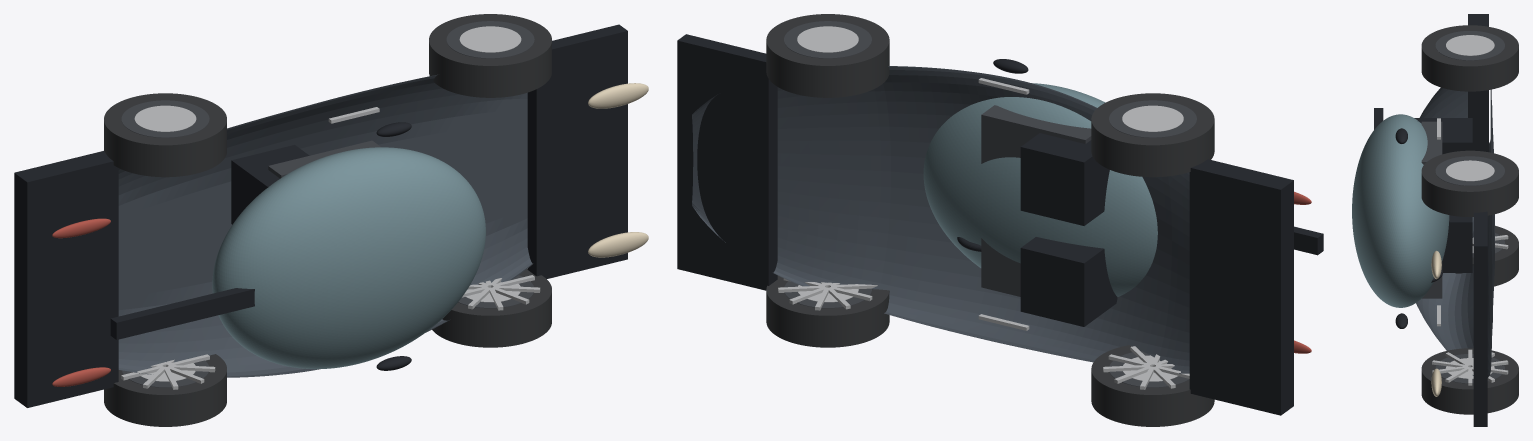
File: SM_Redline_ApexGT_Hero_HQ.glb
3 views of the same model, side by side, from view 1: azimuth 30°, elevation 25°; view 2: azimuth 150°, elevation 25°; view 3: azimuth 270°, elevation 25° (orthographic). The views are drawn at different scales.
Visible parts, largest first — view 1: canopy_glass, body_loft, rear_diffuser, front_splitter, tire_1.28_0.94, tire_-1.28_0.94, tire_-1.28_-0.94, tire_1.28_-0.94, wing, seat_passenger, rim_barrel_1.28_0.94, rim_barrel_-1.28_0.94 (+7 smaller); view 2: body_loft, rear_diffuser, front_splitter, canopy_glass, seat_driver, seat_passenger, tire_1.28_0.94, tire_-1.28_0.94, tire_1.28_-0.94, tire_-1.28_-0.94, dashboard, rim_barrel_1.28_0.94 (+5 smaller); view 3: canopy_glass, body_loft, tire_-1.28_0.94, tire_1.28_0.94, tire_1.28_-0.94, front_splitter, seat_driver, rear_diffuser, seat_passenger, tire_-1.28_-0.94, dashboard, rim_barrel_1.28_0.94 (+7 smaller).
Part boxes in pixels (x1=…): canopy_glass: x1=212, y1=147, x2=485, y2=369; body_loft: x1=118, y1=74, x2=533, y2=377; rear_diffuser: x1=14, y1=150, x2=118, y2=407; front_splitter: x1=527, y1=24, x2=627, y2=278; tire_1.28_0.94: x1=429, y1=14, x2=551, y2=97; tire_-1.28_0.94: x1=104, y1=93, x2=226, y2=177; tire_-1.28_-0.94: x1=104, y1=354, x2=226, y2=426; tire_1.28_-0.94: x1=432, y1=269, x2=551, y2=347; wing: x1=110, y1=288, x2=254, y2=339; seat_passenger: x1=231, y1=145, x2=309, y2=224; rim_barrel_1.28_0.94: x1=446, y1=21, x2=534, y2=58; rim_barrel_-1.28_0.94: x1=121, y1=100, x2=209, y2=137; body_loft: x1=692, y1=66, x2=1189, y2=373; rear_diffuser: x1=1189, y1=159, x2=1293, y2=415; front_splitter: x1=677, y1=34, x2=777, y2=290; canopy_glass: x1=923, y1=83, x2=1157, y2=297; seat_driver: x1=1020, y1=237, x2=1117, y2=326; seat_passenger: x1=1020, y1=133, x2=1109, y2=225; tire_1.28_0.94: x1=766, y1=14, x2=889, y2=97; tire_-1.28_0.94: x1=1091, y1=93, x2=1214, y2=177; tire_1.28_-0.94: x1=766, y1=275, x2=889, y2=347; tire_-1.28_-0.94: x1=1091, y1=345, x2=1214, y2=426; dashboard: x1=981, y1=105, x2=1091, y2=296; rim_barrel_1.28_0.94: x1=784, y1=21, x2=871, y2=58; canopy_glass: x1=1352, y1=114, x2=1449, y2=307; body_loft: x1=1416, y1=87, x2=1494, y2=377; tire_-1.28_0.94: x1=1421, y1=25, x2=1518, y2=91; tire_1.28_0.94: x1=1421, y1=150, x2=1518, y2=216; tire_1.28_-0.94: x1=1421, y1=348, x2=1518, y2=414; front_splitter: x1=1473, y1=211, x2=1487, y2=426; seat_driver: x1=1442, y1=215, x2=1472, y2=272; rear_diffuser: x1=1468, y1=14, x2=1488, y2=152; seat_passenger: x1=1414, y1=118, x2=1472, y2=154; tire_-1.28_-0.94: x1=1455, y1=225, x2=1518, y2=286; dashboard: x1=1421, y1=121, x2=1442, y2=298; rim_barrel_1.28_0.94: x1=1435, y1=156, x2=1504, y2=185.
Bounding box in the file's own units: 4.76 × 2.13 × 1.44.
